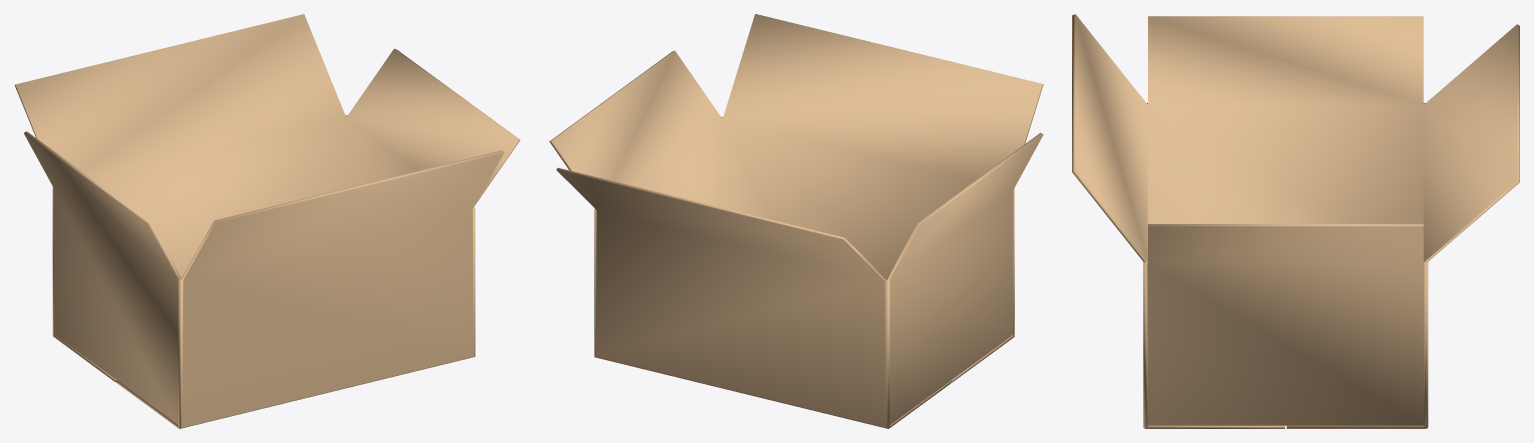
File: CardboardBox.dae
The picture shows the model from 3 angles, left to right: view 1: azimuth 30°, elevation 25°; view 2: azimuth 150°, elevation 25°; view 3: azimuth 270°, elevation 25°; orthographic projection. The views are drawn at different scales.
Visible parts, largest first — view 1: cardboard_box_1; view 2: cardboard_box_1; view 3: cardboard_box_1.
Boxes of the visible parts, x1=… form: cardboard_box_1: x1=14, y1=14, x2=520, y2=428; cardboard_box_1: x1=549, y1=14, x2=1043, y2=428; cardboard_box_1: x1=1072, y1=14, x2=1519, y2=428.
Bounding box in the file's own units: 0.1261 × 0.1179 × 0.0744.
